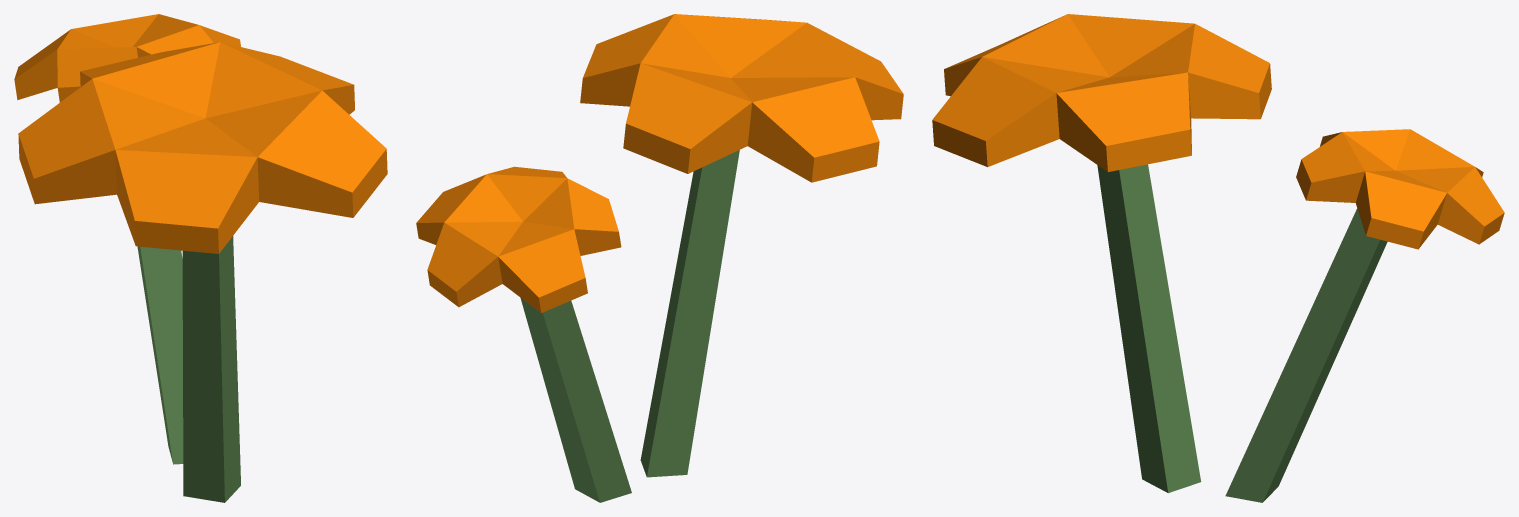
Rendered from event_6.fbx.
The picture shows the model from 3 angles, left to right: view 1: azimuth 30°, elevation 25°; view 2: azimuth 150°, elevation 25°; view 3: azimuth 270°, elevation 25°; orthographic projection. The views are drawn at different scales.
Visible parts, largest first — view 1: event_06; view 2: event_06; view 3: event_06.
Part boxes in pixels (x1,y1,x2,y2): event_06: (14,14,387,502); event_06: (416,14,903,502); event_06: (932,14,1504,502).
Bounding box in the file's own units: 0.0256 × 0.0315 × 0.0393.
Materials: 1 (1 with a texture image).
